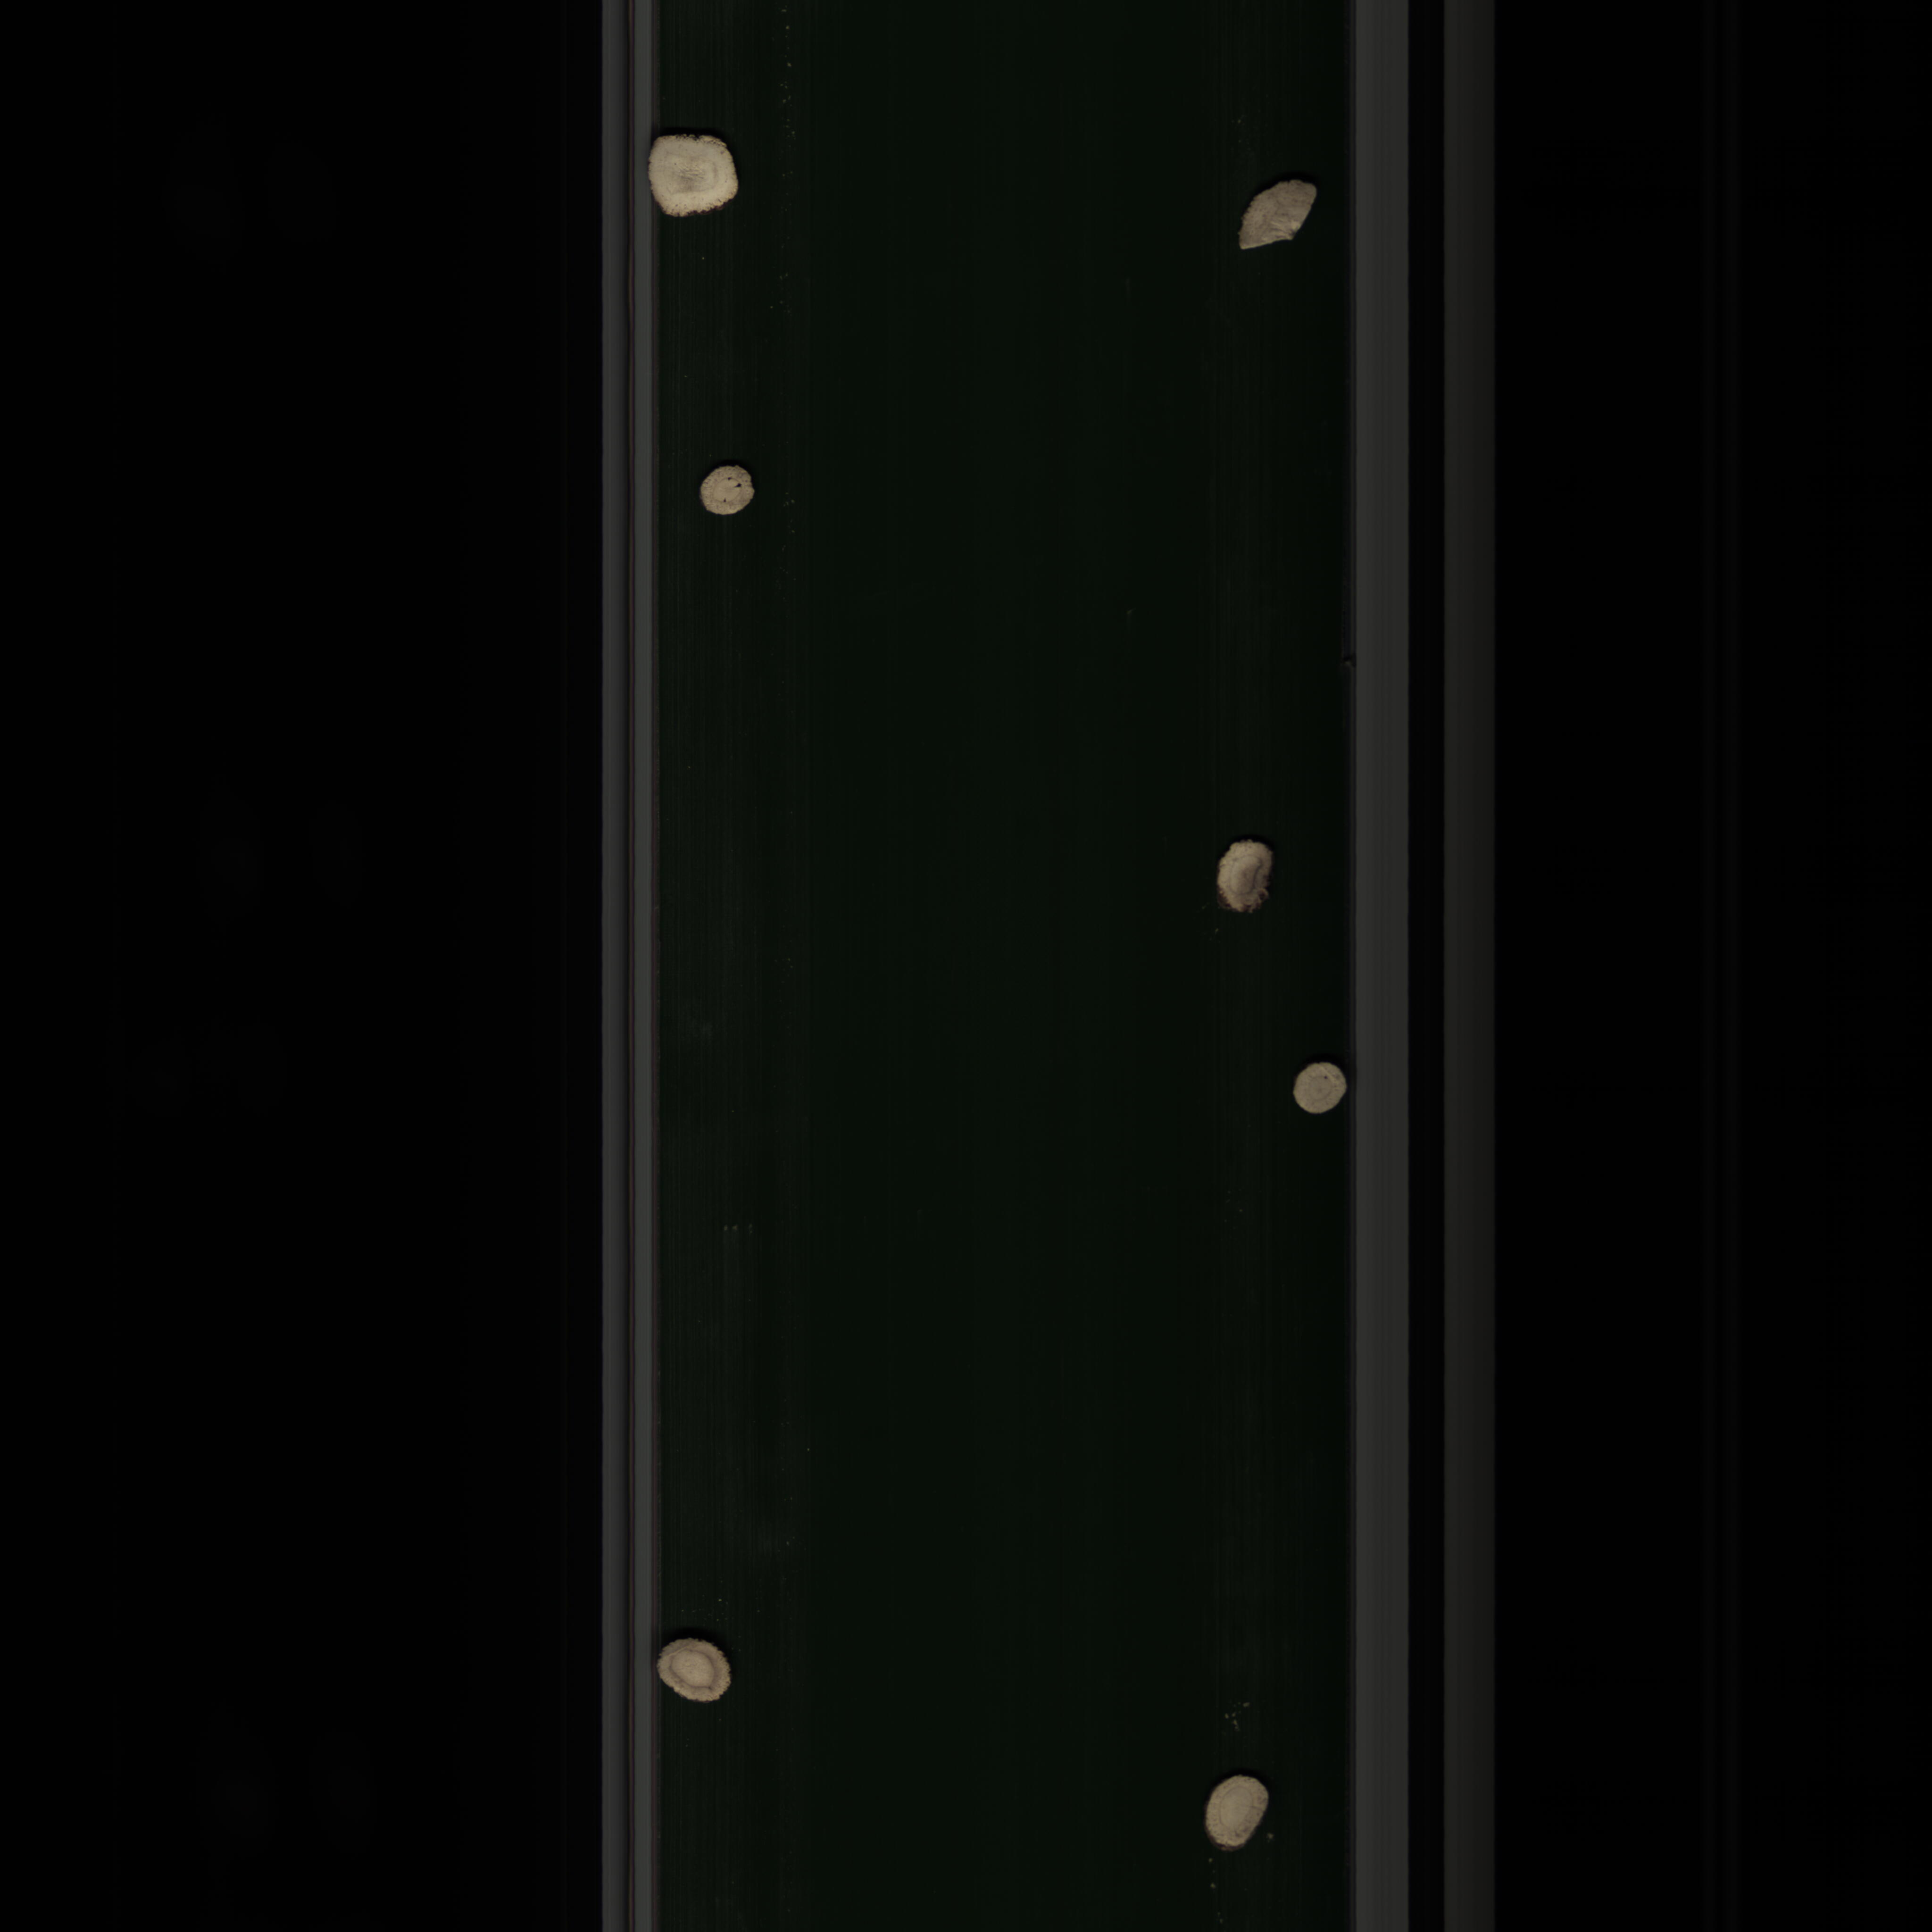debris: (1238, 173, 1325, 258)
hole: (694, 460, 766, 522)
moldy: (1217, 833, 1279, 932)
